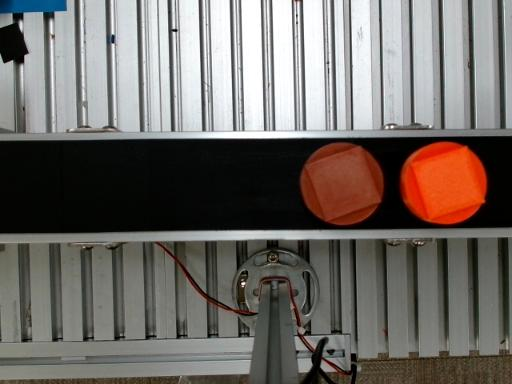Square: (305, 146, 382, 222), (413, 145, 486, 219)
